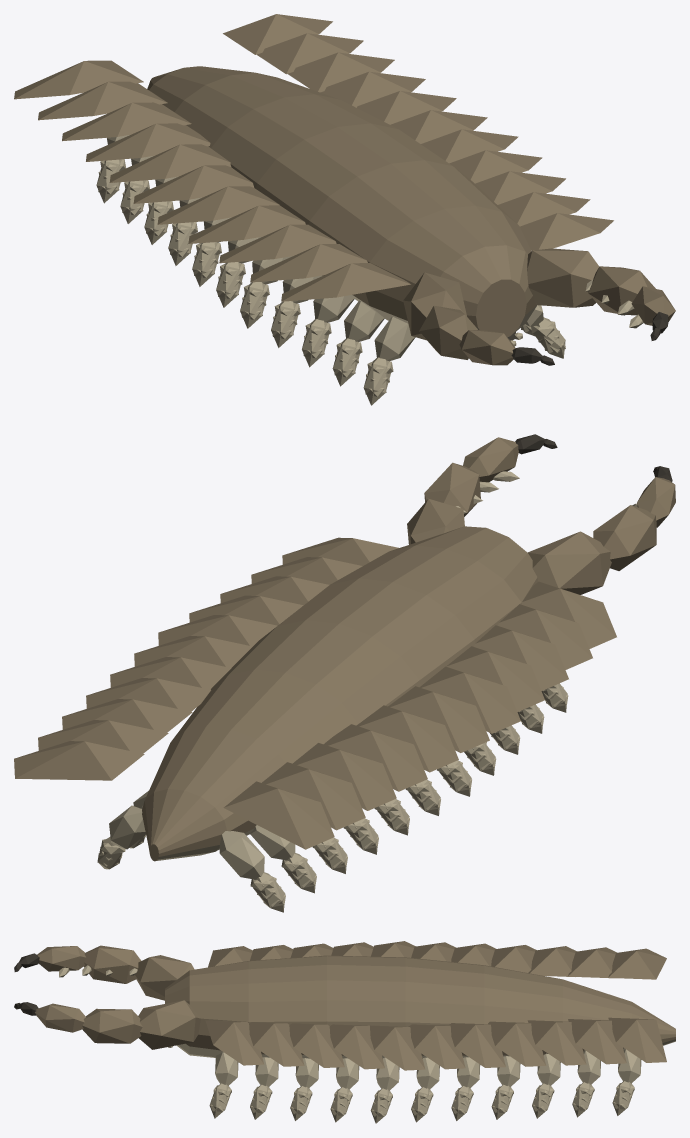
3 views of the same model, one above another, from view 1: azimuth 30°, elevation 25°; view 2: azimuth 150°, elevation 25°; view 3: azimuth 270°, elevation 25° (orthographic). The views are drawn at different scales.
Parts seen in each view (by area): view 1: surface_umber_clay, surface_lighter_underside, surface_mouth_claws; view 2: surface_umber_clay, surface_lighter_underside, surface_mouth_claws; view 3: surface_umber_clay, surface_lighter_underside, surface_mouth_claws.
Part boxes in pixels (x1,y1,x2,y2): surface_umber_clay: (14,14,675,365); surface_lighter_underside: (96,134,643,405); surface_mouth_claws: (507,312,668,365); surface_umber_clay: (14,437,675,861); surface_lighter_underside: (97,471,637,912); surface_mouth_claws: (515,434,672,481); surface_umber_clay: (35,941,675,1070); surface_lighter_underside: (59,965,641,1123); surface_mouth_claws: (14,953,39,1015).
Bounding box in the file's own units: 0.4618 × 0.1988 × 0.997.
